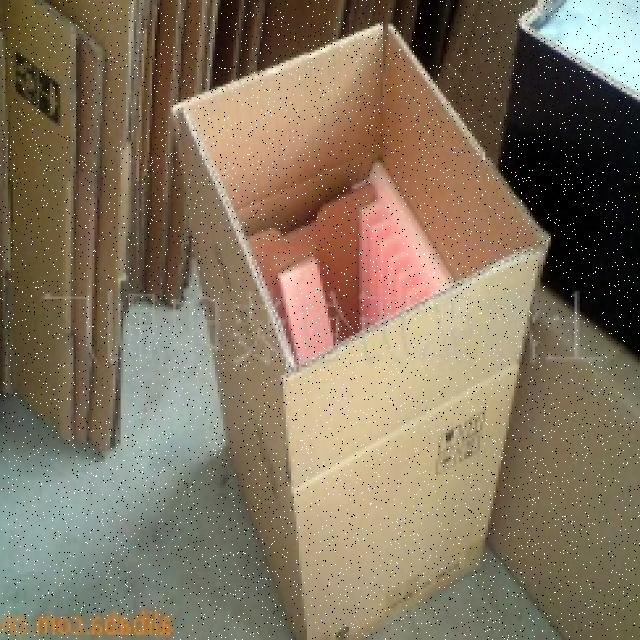box: (173, 26, 559, 640)
